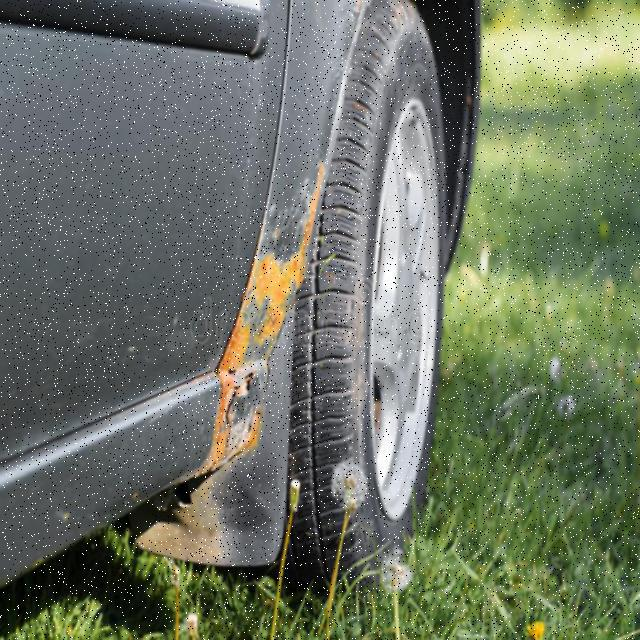quaterpanel-dent: (268, 4, 404, 512)
